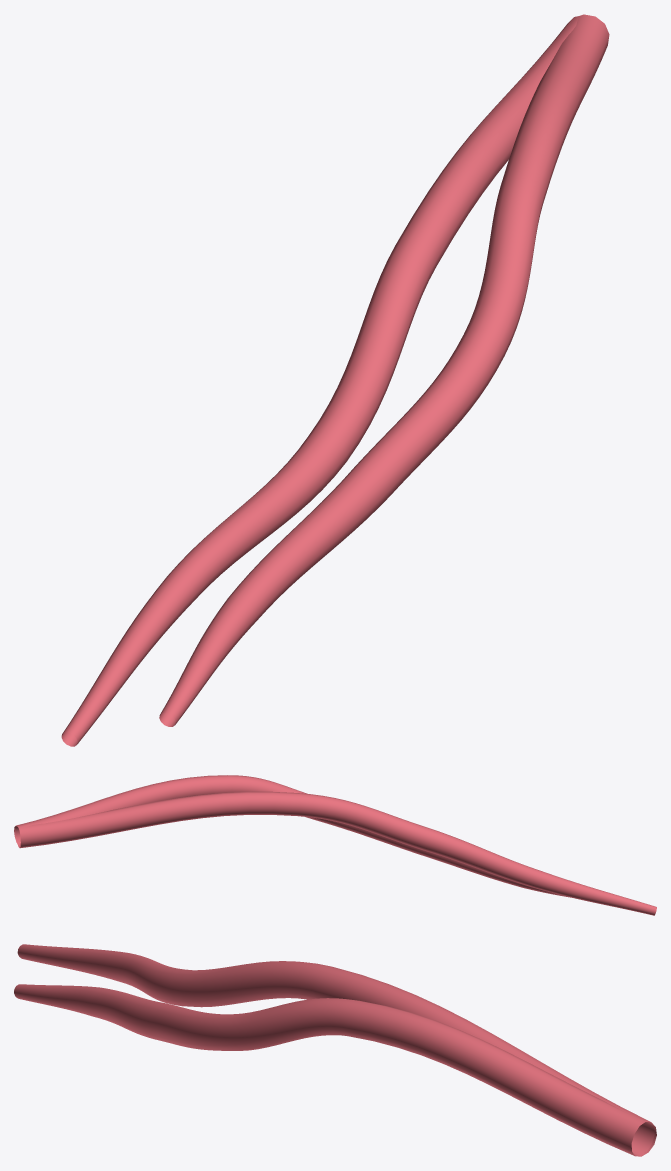
The picture shows the model from 3 angles, top to bottom: view 1: azimuth 30°, elevation 25°; view 2: azimuth 150°, elevation 25°; view 3: azimuth 270°, elevation 25°; orthographic projection. The views are drawn at different scales.
Visible parts, largest first — view 1: ZA_fb2e904e329905d8; view 2: ZA_fb2e904e329905d8; view 3: ZA_fb2e904e329905d8.
Boxes of the visible parts, x1=… form: ZA_fb2e904e329905d8: x1=61, y1=14, x2=609, y2=746; ZA_fb2e904e329905d8: x1=14, y1=775, x2=656, y2=915; ZA_fb2e904e329905d8: x1=14, y1=944, x2=656, y2=1156.
Bounding box in the file's own units: 0.0114 × 0.00329 × 0.0085.
